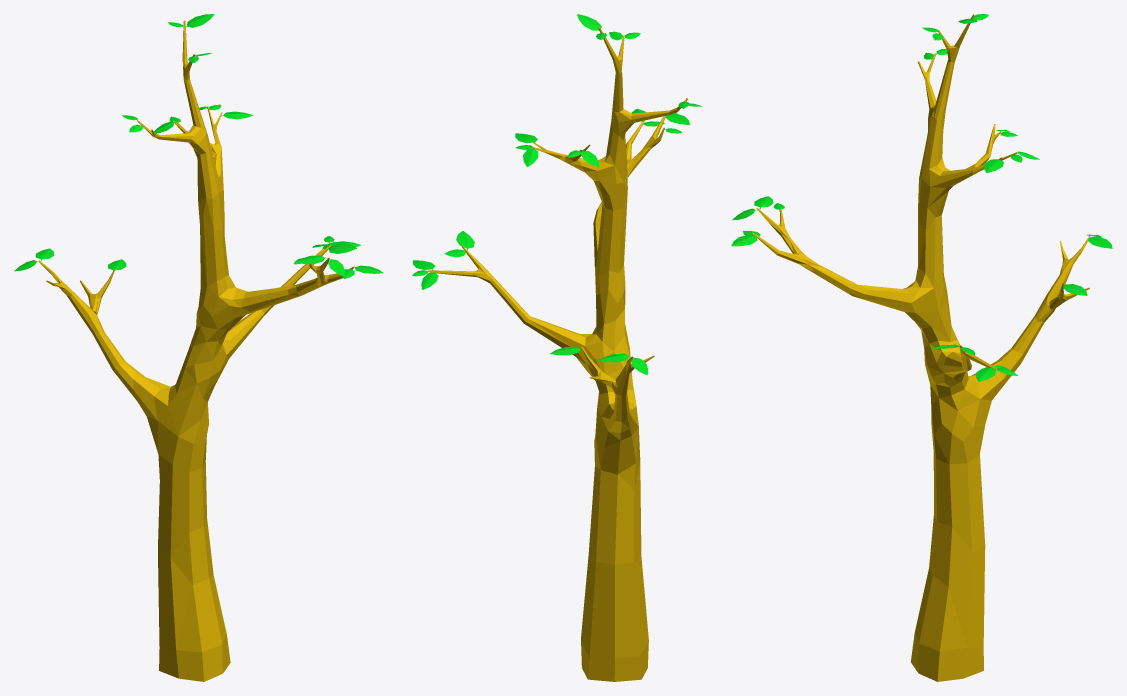
The model's file is TREE_SMALL.fbx.
3 renders of one model, left to right at view 1: azimuth 30°, elevation 25°; view 2: azimuth 150°, elevation 25°; view 3: azimuth 270°, elevation 25°, orthographic. The views are drawn at different scales.
Parts seen in each view (by area): view 1: TREE_SMALL, FEUILE_Small; view 2: TREE_SMALL, FEUILE_Small; view 3: TREE_SMALL, FEUILE_Small.
Boxes of the visible parts, <box> form: TREE_SMALL: <box>38,20,354,681</box>; FEUILE_Small: <box>14,14,383,278</box>; TREE_SMALL: <box>428,27,688,681</box>; FEUILE_Small: <box>412,14,702,375</box>; TREE_SMALL: <box>752,14,1090,681</box>; FEUILE_Small: <box>731,14,1112,381</box>.
Size of the model in its own units: 252 by 535 by 281.
